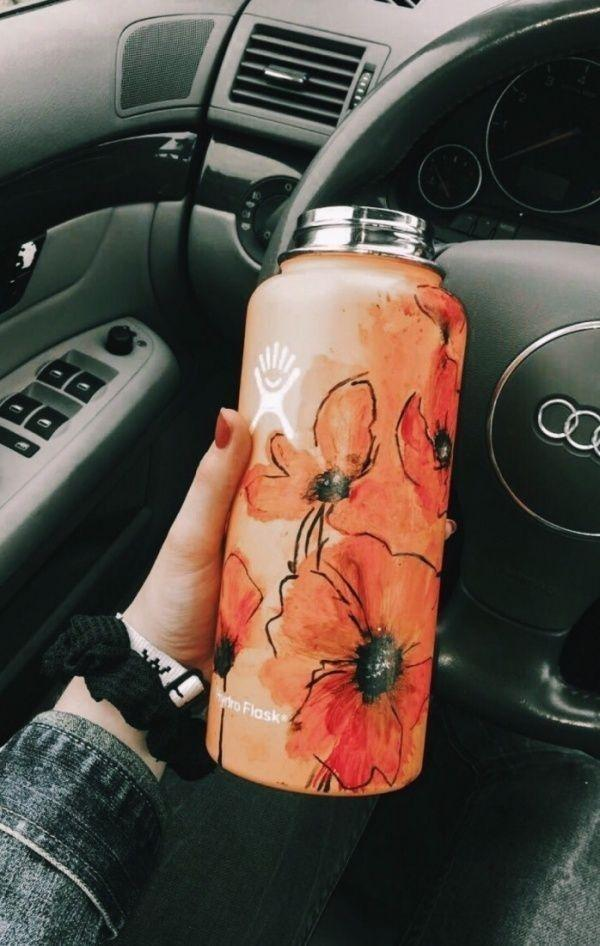gym bottle: (219, 202, 467, 800)
